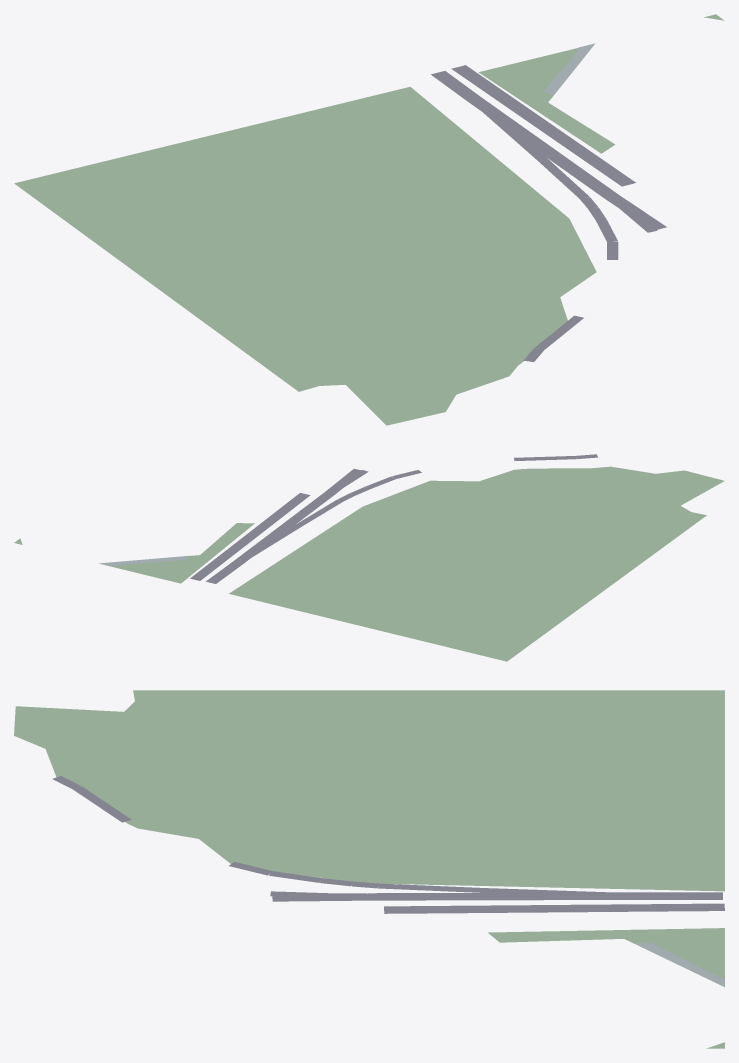
The model's file is 94_114_mid.glb.
The picture shows the model from 3 angles, top to bottom: view 1: azimuth 30°, elevation 25°; view 2: azimuth 150°, elevation 25°; view 3: azimuth 270°, elevation 25°; orthographic projection. The views are drawn at different scales.
Bounding box in the file's own units: 500 × 8.57 × 422.
